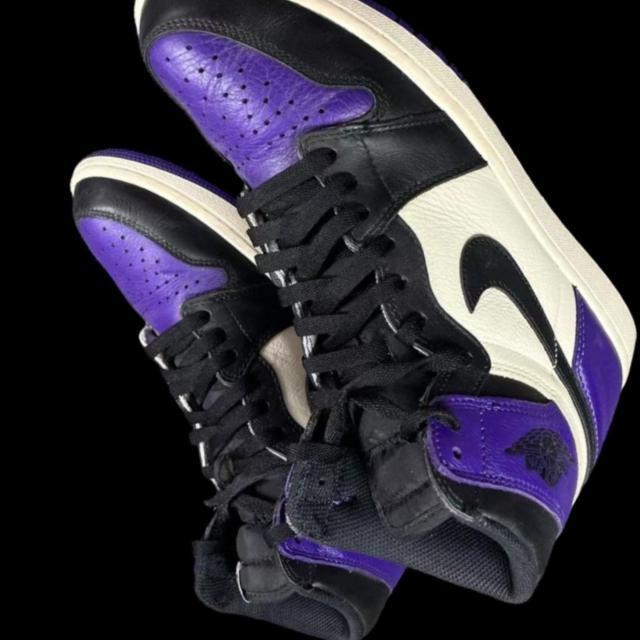nike original jordan 1: (0, 0, 640, 640), (0, 118, 527, 640)
